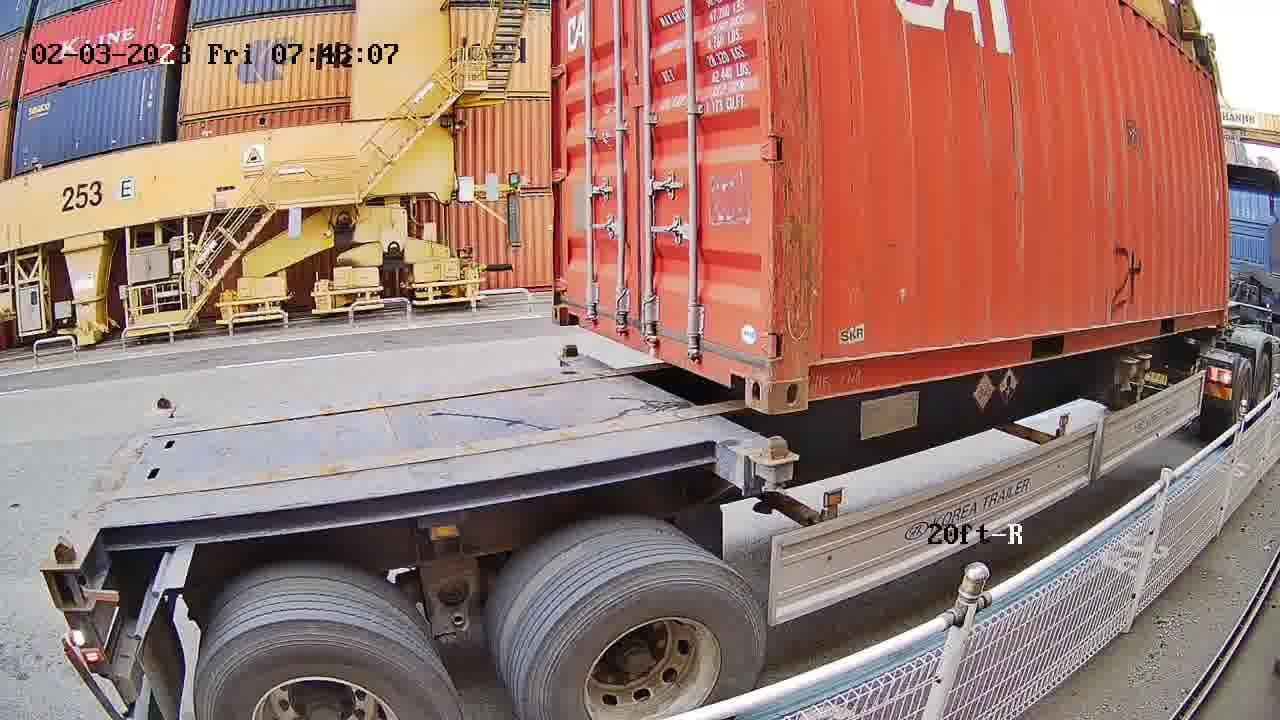Chassis: (559, 353, 806, 470)
Cone: (757, 436, 801, 497), (560, 341, 583, 358)
Hole_L: (768, 332, 849, 416), (552, 283, 586, 330)
Hole_R: (715, 321, 770, 419)
Tire: (523, 557, 765, 716), (195, 620, 460, 714)
